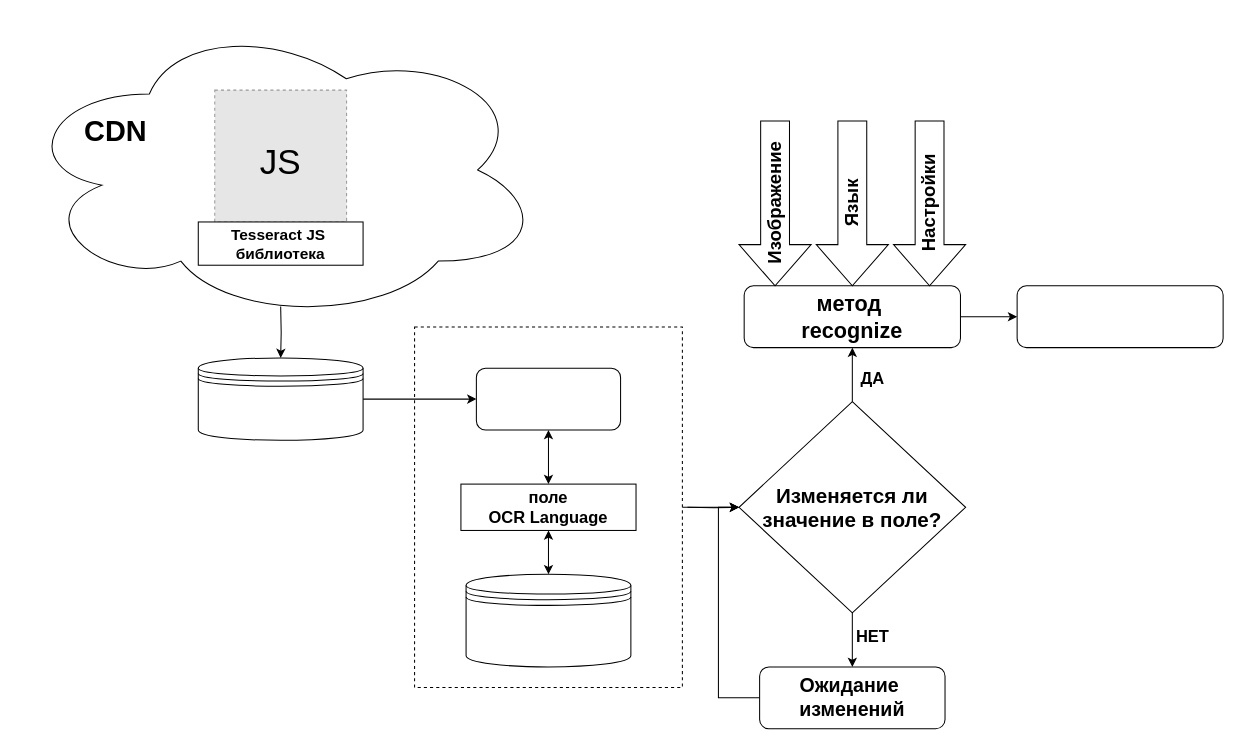
This 1241x747 diagram has some shape labels left out. Grey dashed boxes stand in for pictures. Each missing label, with the centre of its shape:
"Client Script" belongs at point (548, 398).
"Images [images_db]" belongs at point (548, 620).
"UI Script" belongs at point (280, 409).
"Распознанный текст" belongs at point (1119, 316).
